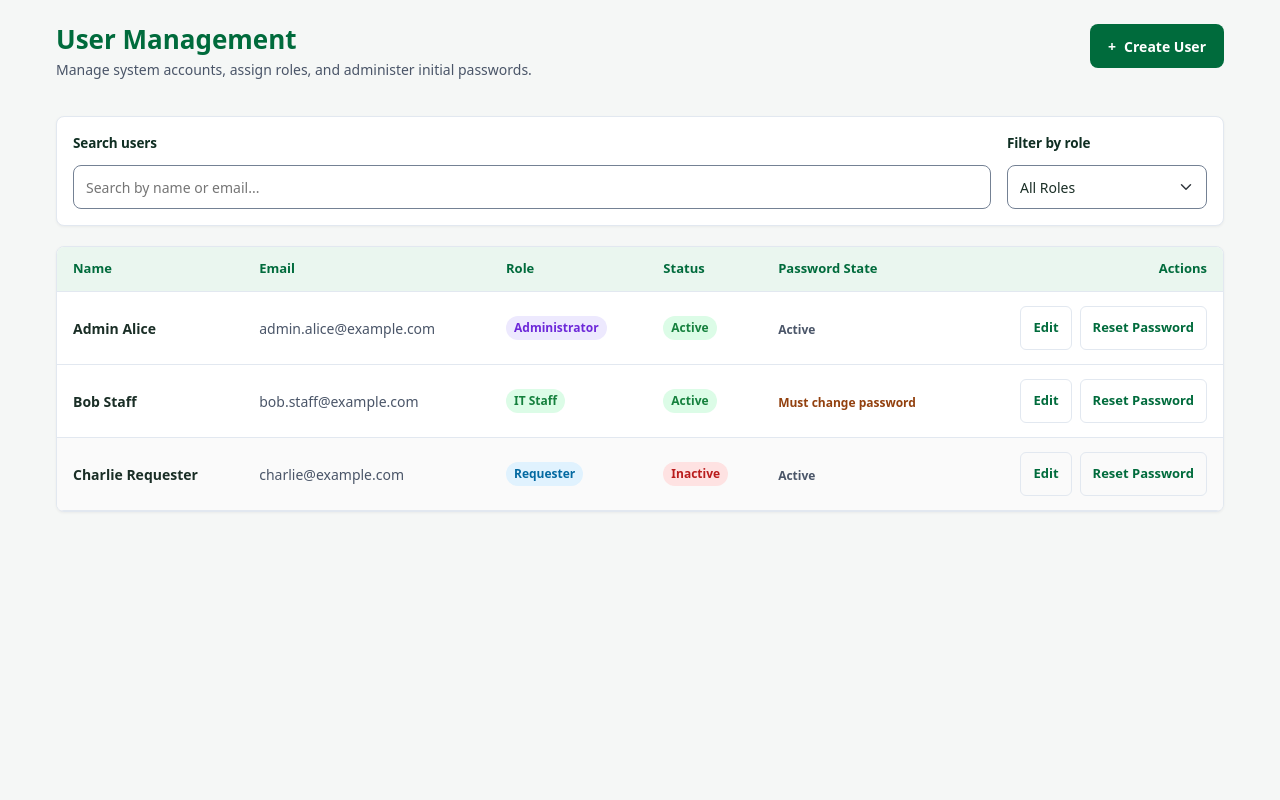
UI-07: Administrator User Management Component › Create User Dialog & Password Security › successfully creates user, closes modal, and refreshes list
This screenshot has width=1280, height=800.
Click the button "+ Create User": click(1157, 46) [1090,24,1224,68]
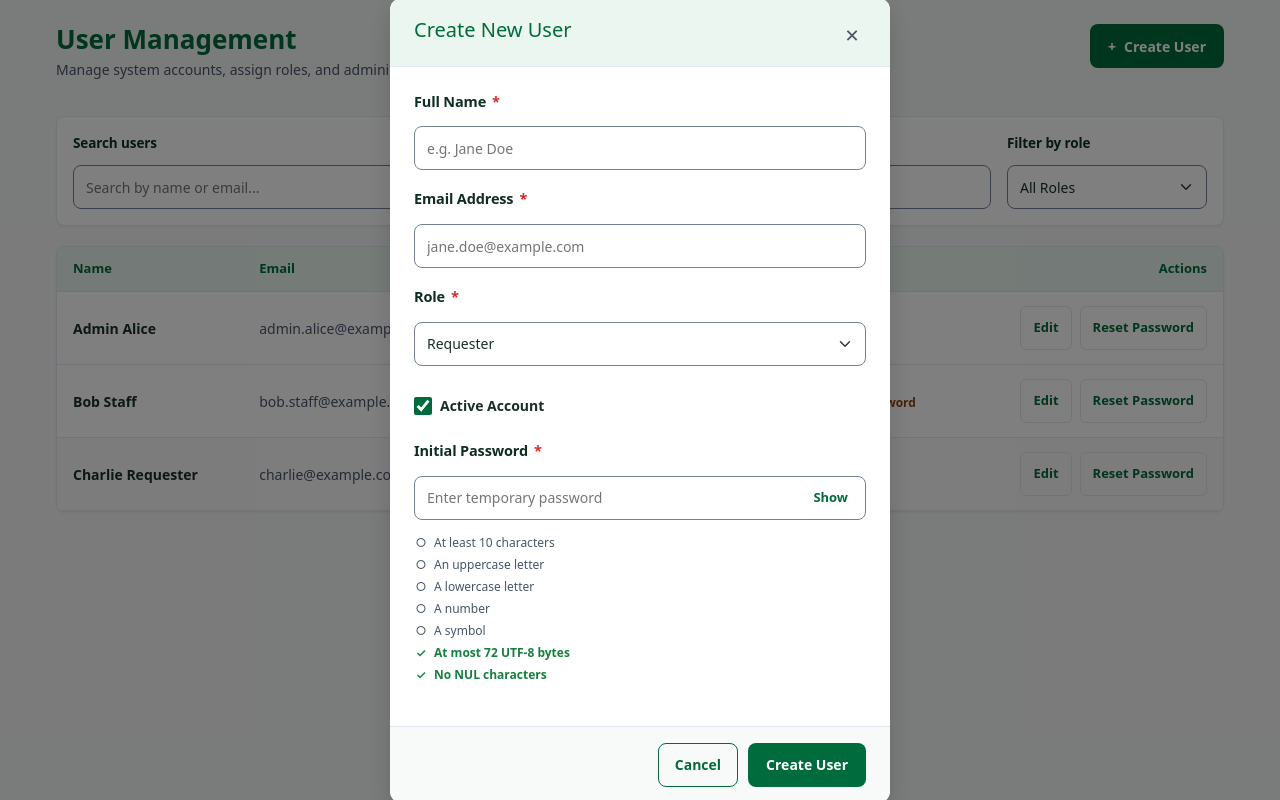
In the field labelled "Full Name *": (640, 148) [414,126,866,170], type "David New"
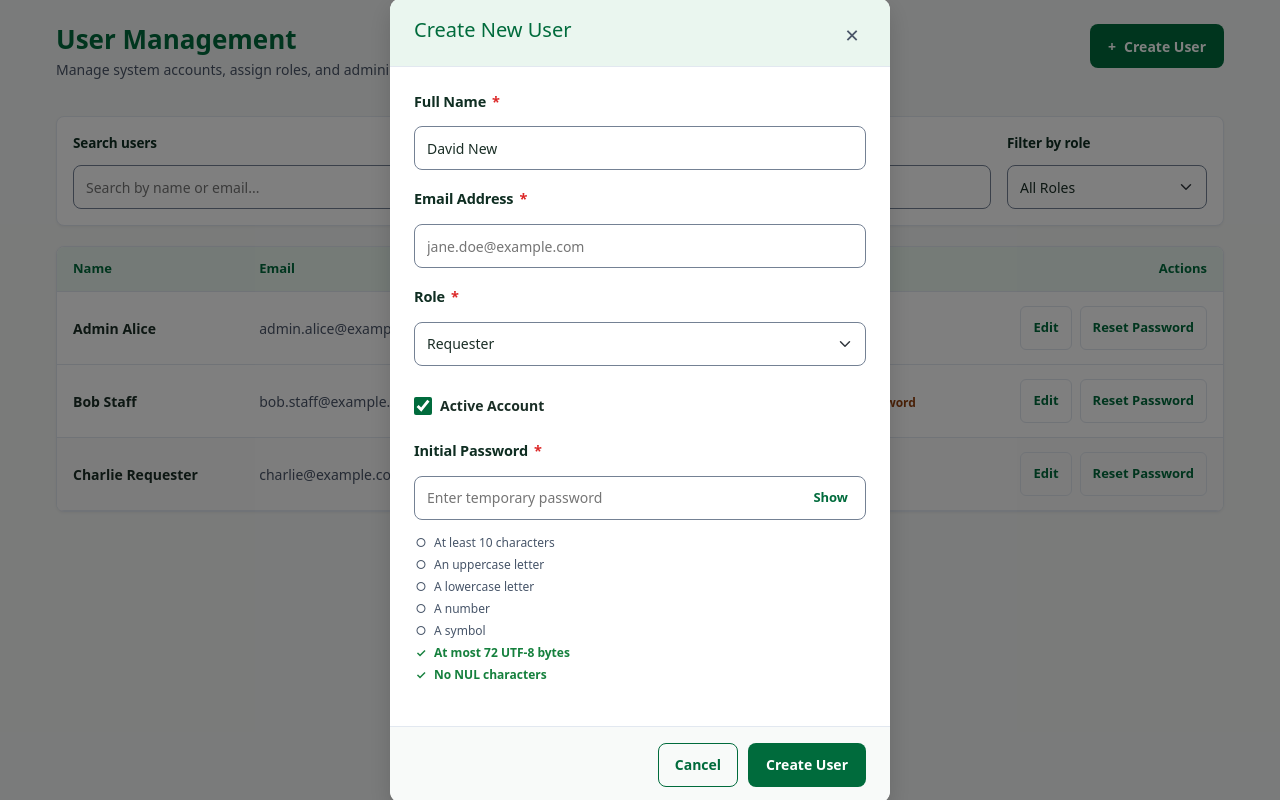
In the field labelled "Email Address *": (640, 246) [414,224,866,268], type "david@example.com"
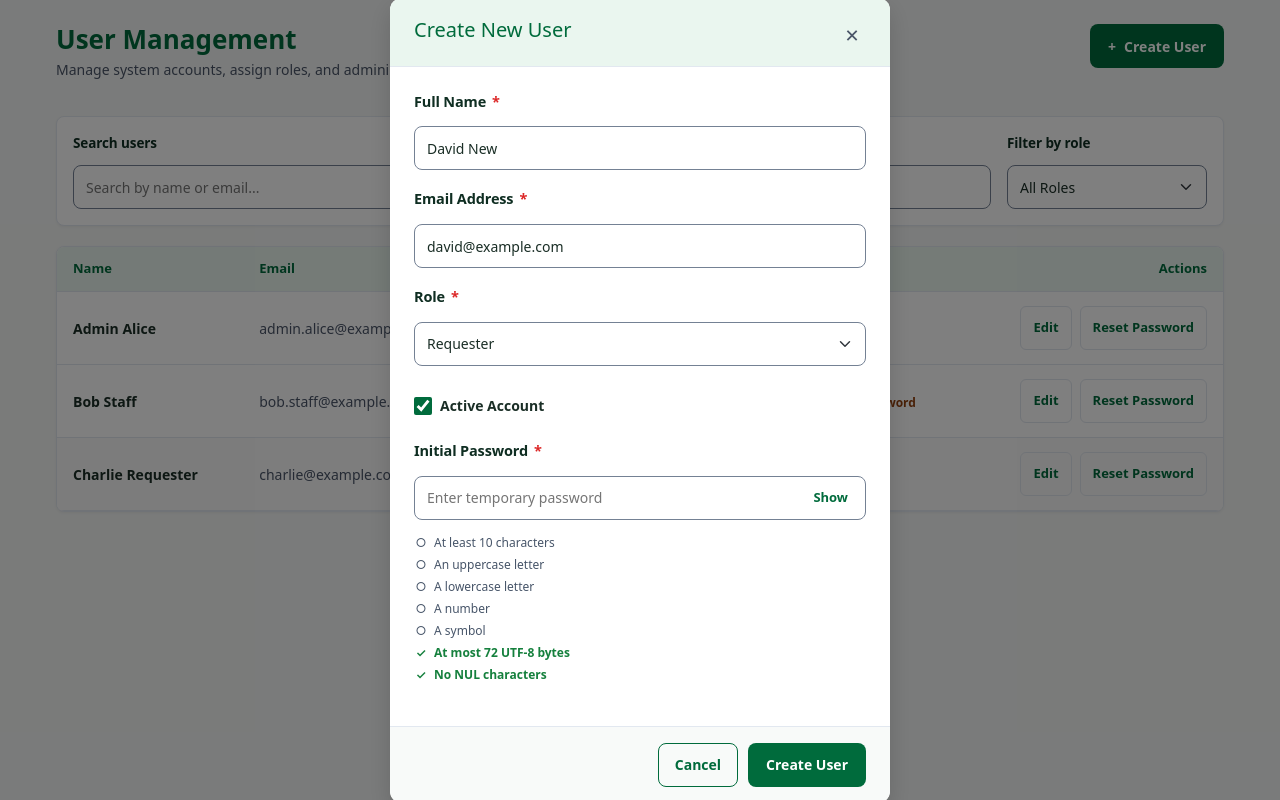
Select "IT Staff" in the dropdown labelled "Role *": (640, 344) [414,322,866,366]
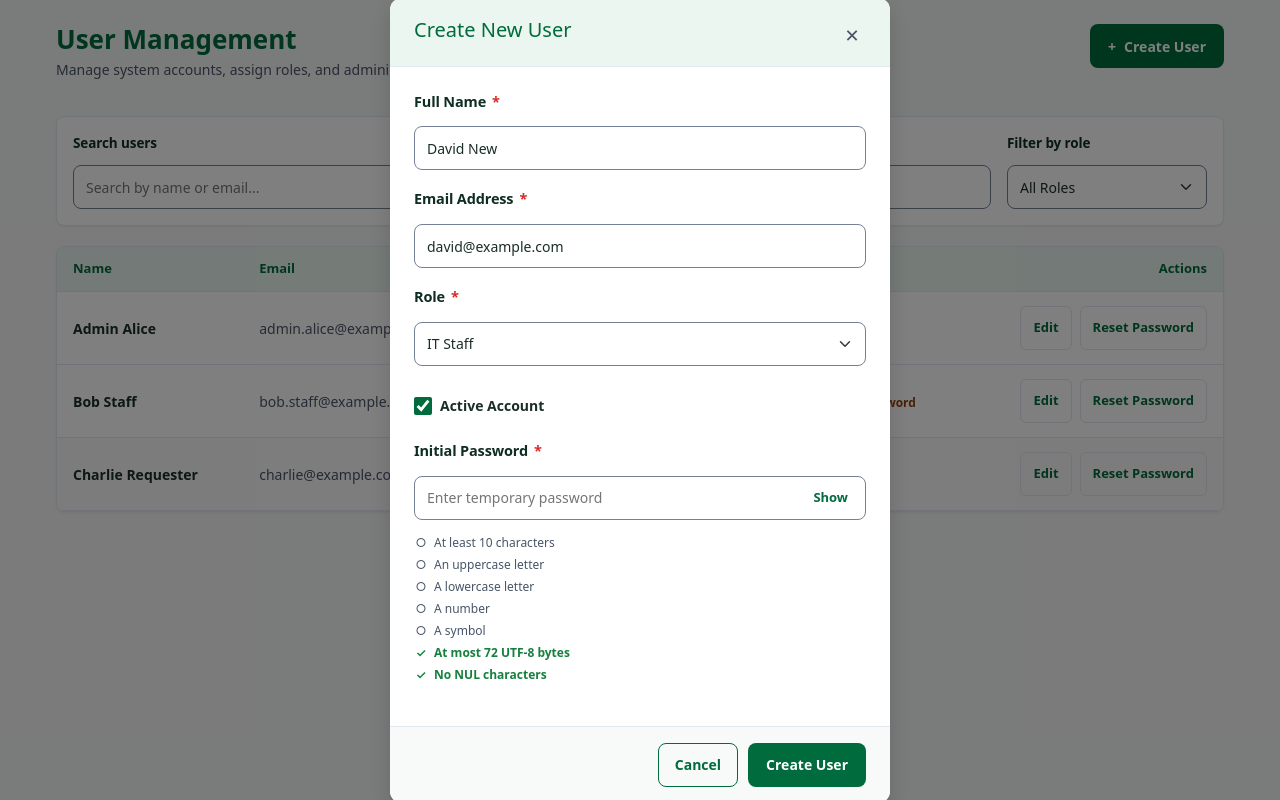
In the password field labelled "Initial Password *": (640, 498) [414,476,866,520], type "ValidPassword1!"
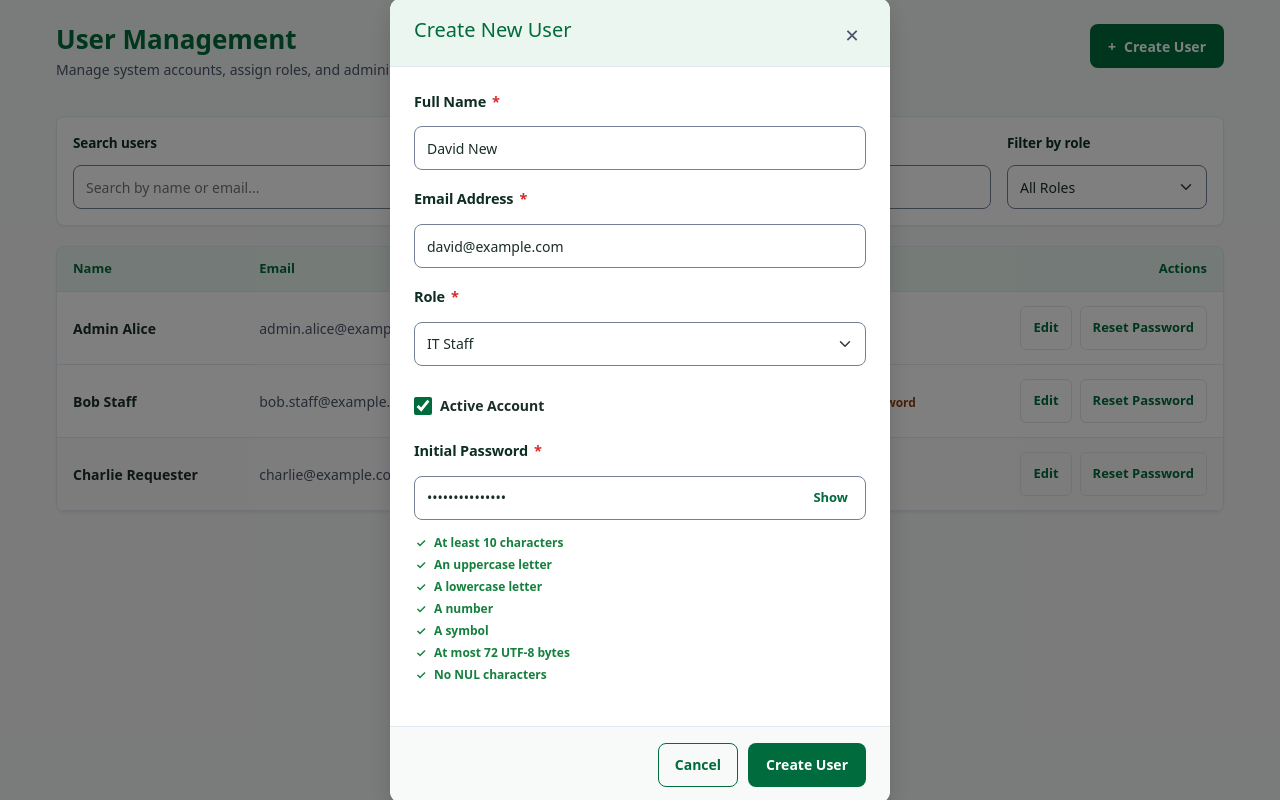
Click the button "Create User": click(807, 764) [748,742,866,786]
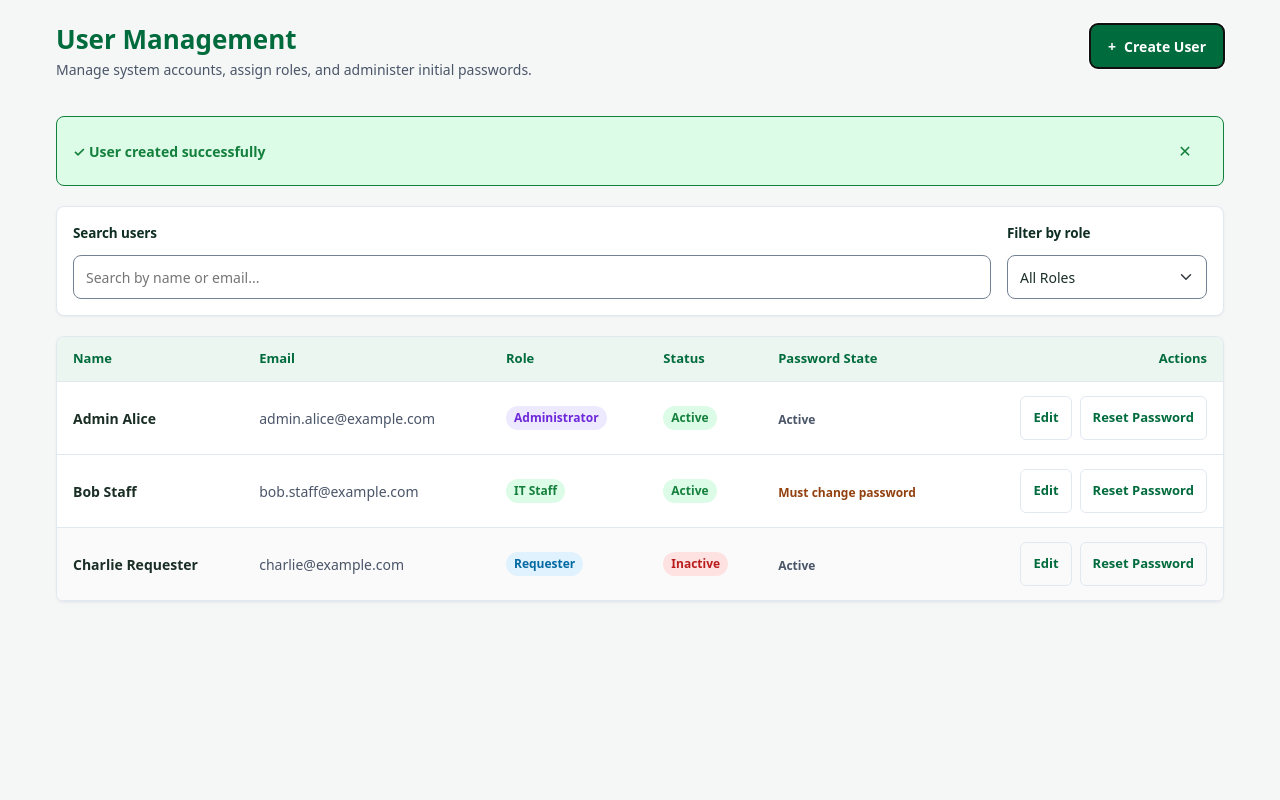
Result: the text "✓ User created successfully" is shown at [73,141,266,162]
